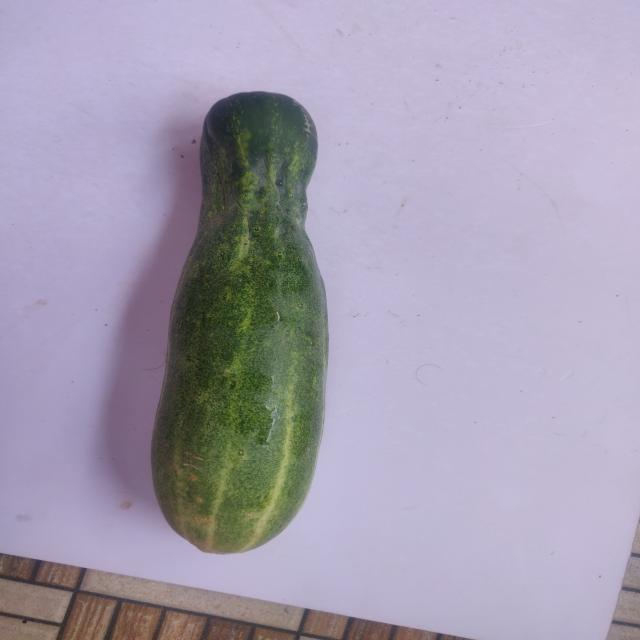Cucumber: (152, 65, 336, 559)
